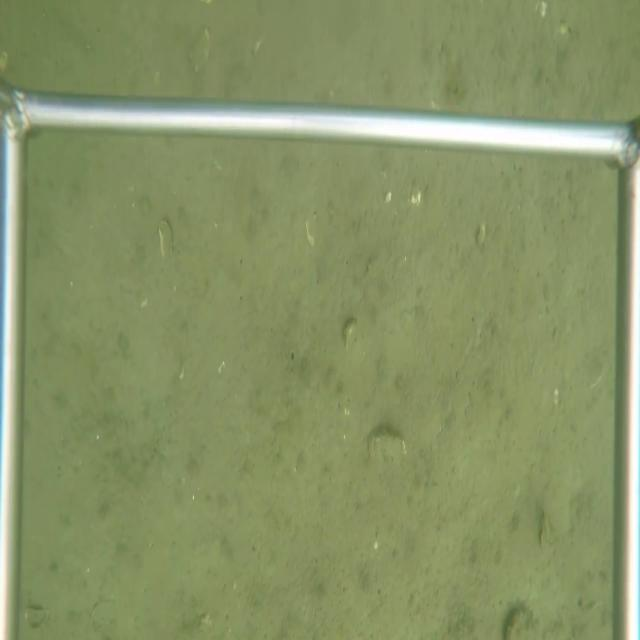Oyster-Indeterminate: (366, 424, 410, 463)
